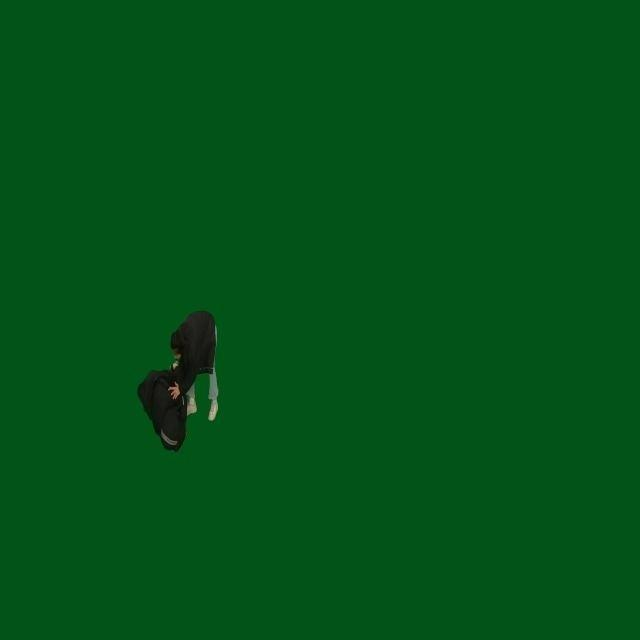fight: (136, 306, 223, 454)
